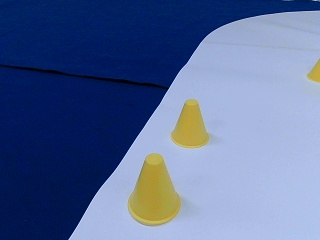cone: (128, 155, 181, 225), (172, 101, 209, 147), (306, 58, 319, 82)
